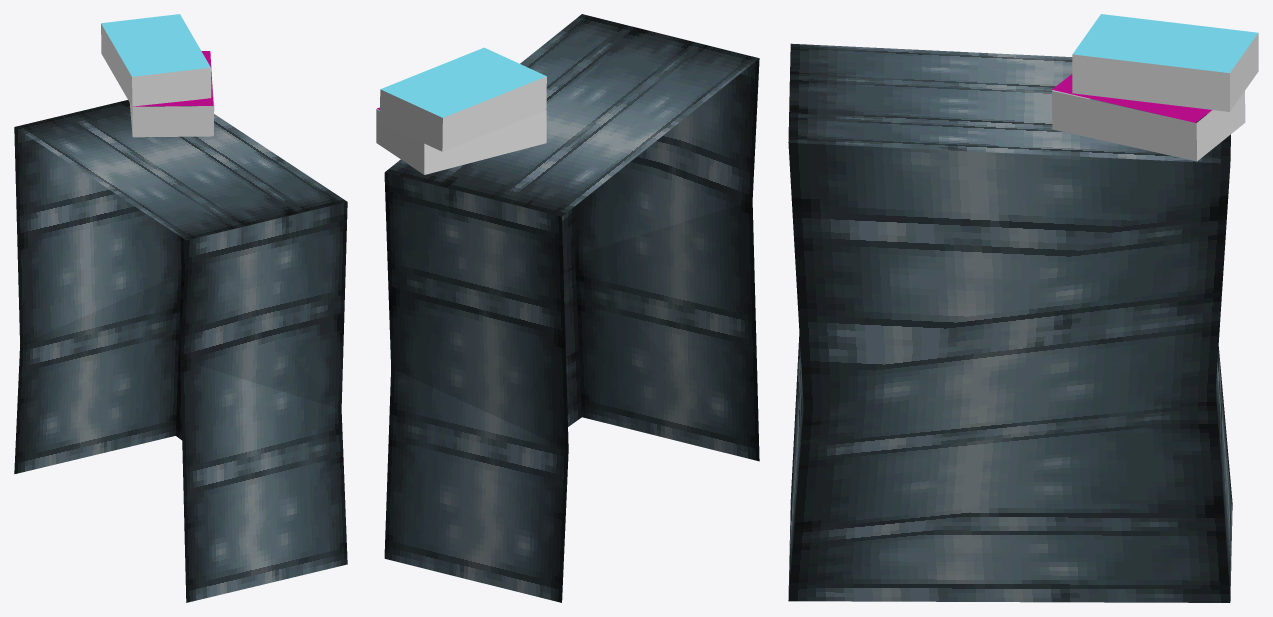
File: Aktenschrank_2024.glb
The picture shows the model from 3 angles, left to right: view 1: azimuth 30°, elevation 25°; view 2: azimuth 150°, elevation 25°; view 3: azimuth 270°, elevation 25°; orthographic projection. The views are drawn at different scales.
Parts seen in each view (by area): view 1: pPlaneShape72, pPlaneShape73, pPlaneShape74, polySurfaceShape1026, pCylinderShape88, pCylinderShape87, pPlaneShape15, polySurfaceShape1025; view 2: pPlaneShape73, pPlaneShape72, pPlaneShape74, pCylinderShape88, polySurfaceShape1026, pCylinderShape87, pPlaneShape15; view 3: pPlaneShape15, pPlaneShape74, pCylinderShape88, pCylinderShape87, polySurfaceShape1026, pPlaneShape73, pPlaneShape72, polySurfaceShape1025.
Boxes of the visible parts, x1,y1,x2,y2 form: pPlaneShape72: [180, 202, 347, 602]; pPlaneShape73: [14, 127, 181, 474]; pPlaneShape74: [15, 100, 347, 240]; polySurfaceShape1026: [101, 14, 210, 76]; pCylinderShape88: [101, 24, 211, 107]; pCylinderShape87: [129, 77, 214, 137]; pPlaneShape15: [175, 236, 186, 440]; polySurfaceShape1025: [132, 51, 213, 106]; pPlaneShape73: [384, 172, 568, 602]; pPlaneShape72: [575, 58, 759, 461]; pPlaneShape74: [385, 14, 759, 216]; pCylinderShape88: [379, 76, 546, 151]; polySurfaceShape1026: [380, 47, 546, 117]; pCylinderShape87: [376, 109, 546, 174]; pPlaneShape15: [562, 205, 581, 426]; pPlaneShape15: [788, 142, 1230, 602]; pPlaneShape74: [788, 43, 1230, 163]; pCylinderShape88: [1072, 33, 1258, 111]; pCylinderShape87: [1052, 90, 1245, 161]; polySurfaceShape1026: [1073, 14, 1257, 72]; pPlaneShape73: [1215, 347, 1232, 600]; pPlaneShape72: [788, 334, 803, 600]; polySurfaceShape1025: [1052, 74, 1211, 122].
Bounding box in the file's own units: 0.1118 × 0.2442 × 0.1954.
8 materials, 4 textured.
